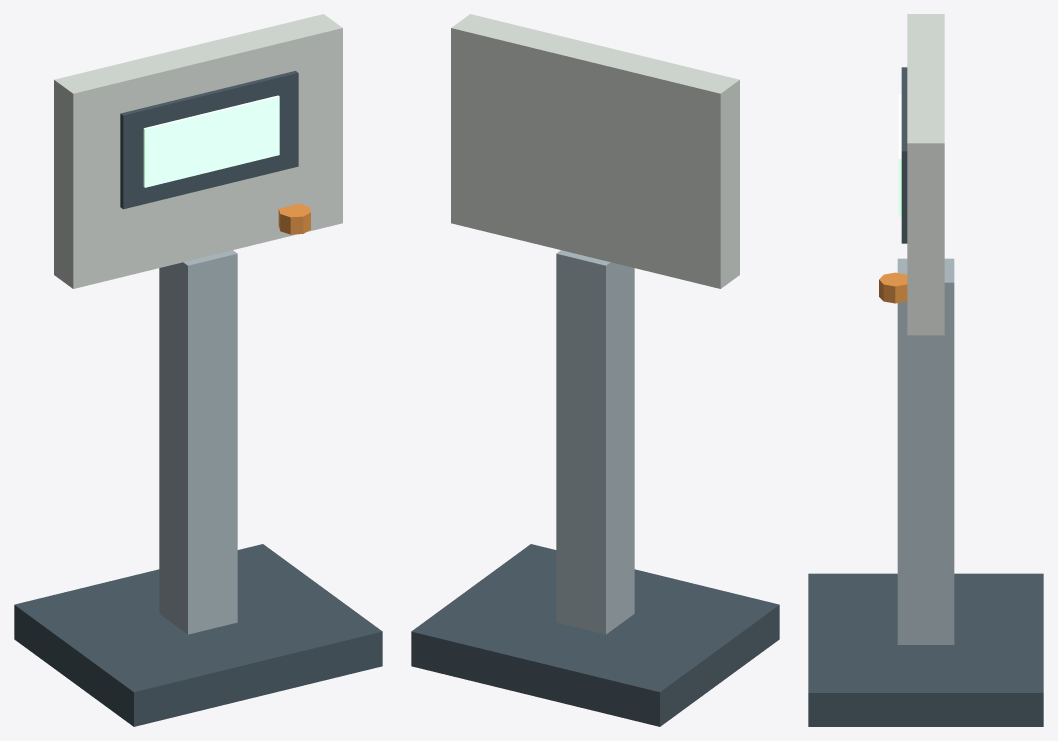
Rendered from operator-control-pedestal.glb.
3 views of the same model, side by side, from view 1: azimuth 30°, elevation 25°; view 2: azimuth 150°, elevation 25°; view 3: azimuth 270°, elevation 25° (orthographic).
Parts seen in each view (by area): view 1: dark, cream, steel, light, orange; view 2: cream, dark, steel; view 3: dark, steel, cream, orange, light.
Part boxes in pixels (box(x1,y1,x2,y2)): dark: box(14, 71, 382, 726); cream: box(54, 14, 342, 288); steel: box(159, 250, 237, 634); light: box(143, 95, 279, 187); orange: box(278, 203, 310, 234); cream: box(451, 14, 739, 288); dark: box(411, 544, 779, 726); steel: box(556, 250, 634, 634); dark: box(808, 67, 1043, 726); steel: box(897, 258, 954, 644); cream: box(907, 14, 944, 335); orange: box(879, 272, 907, 303); light: box(898, 94, 901, 216).
Bounding box in the file's own units: 0.65 × 1.38 × 0.5.
